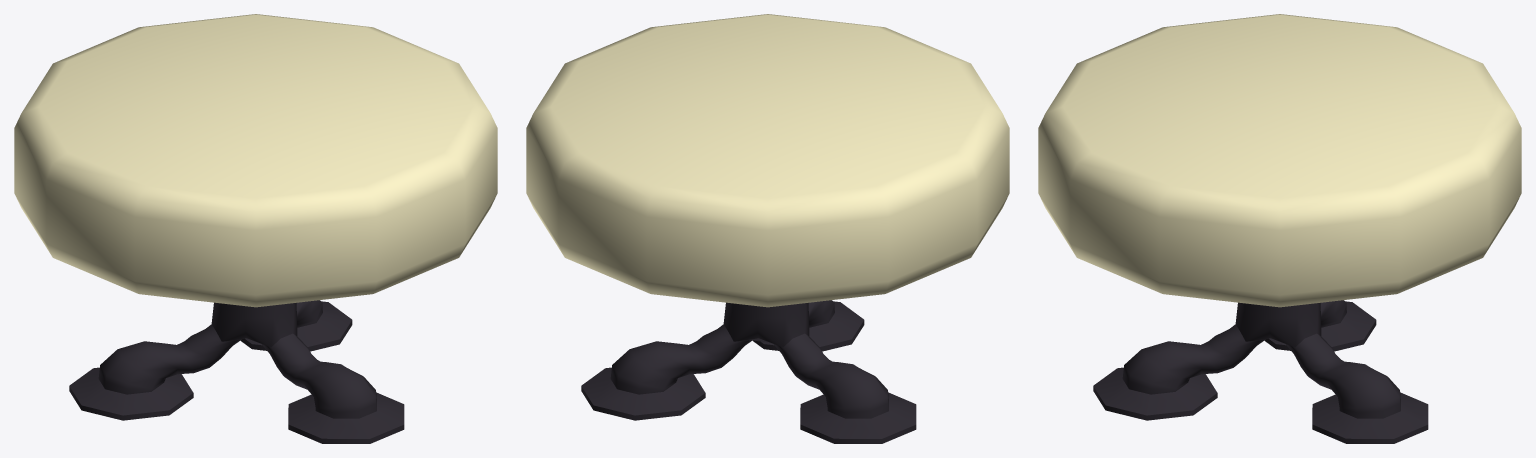
The model's file is 146_padded_stool.glb.
3 renders of one model, left to right at view 1: azimuth 30°, elevation 25°; view 2: azimuth 150°, elevation 25°; view 3: azimuth 270°, elevation 25°, orthographic.
Visible parts, largest first — view 1: seat, feet; view 2: seat, feet; view 3: seat, feet.
Boxes of the visible parts, x1=… form: seat: x1=14, y1=14, x2=497, y2=307; feet: x1=69, y1=300, x2=404, y2=443; seat: x1=526, y1=14, x2=1009, y2=307; feet: x1=581, y1=300, x2=916, y2=443; seat: x1=1038, y1=14, x2=1521, y2=307; feet: x1=1093, y1=300, x2=1428, y2=443.
Bounding box in the file's own units: 0.6 × 0.3786 × 0.6.
